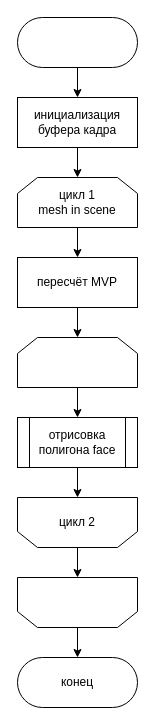
Some shapes in this 155 by 725 pixel diagram are drawn without their labels. The shapes that lost their labels are listed below. From the top down, each one's box as (x1, y1, x2, y2) in pixels, then its label:
(16, 16, 138, 68): начало
(16, 336, 138, 388): цикл 2 face in mesh
(16, 576, 138, 628): цикл 1
